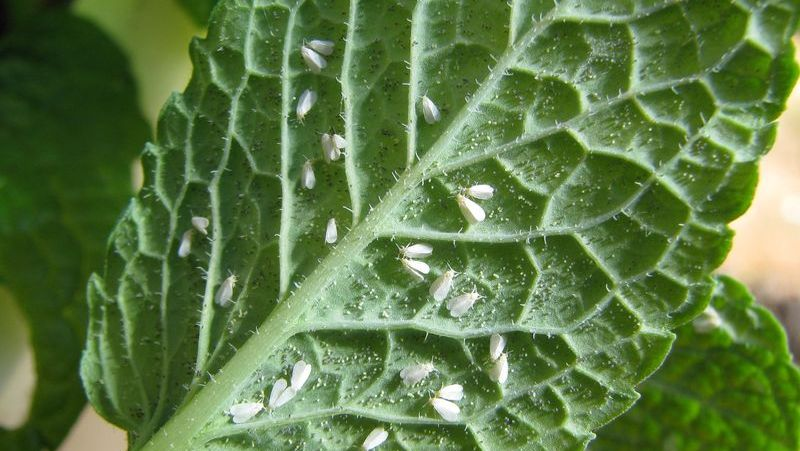Tobacco Whitefly: (257, 352, 315, 425), (297, 36, 361, 98), (210, 265, 263, 312), (408, 80, 450, 138), (284, 85, 329, 130), (397, 244, 445, 285), (431, 375, 467, 428), (446, 179, 477, 236), (326, 210, 346, 255), (353, 420, 378, 451)
